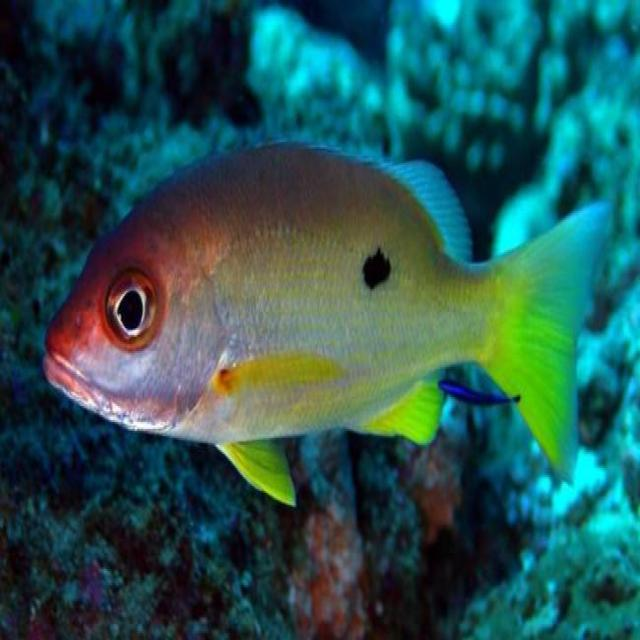ikan: (41, 136, 614, 509)
